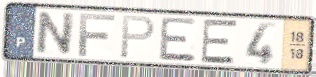4: (244, 21, 277, 67)
E: (157, 16, 199, 64), (199, 19, 238, 66)
F: (77, 12, 117, 59)
N: (34, 10, 78, 56)
P: (118, 14, 157, 61)
